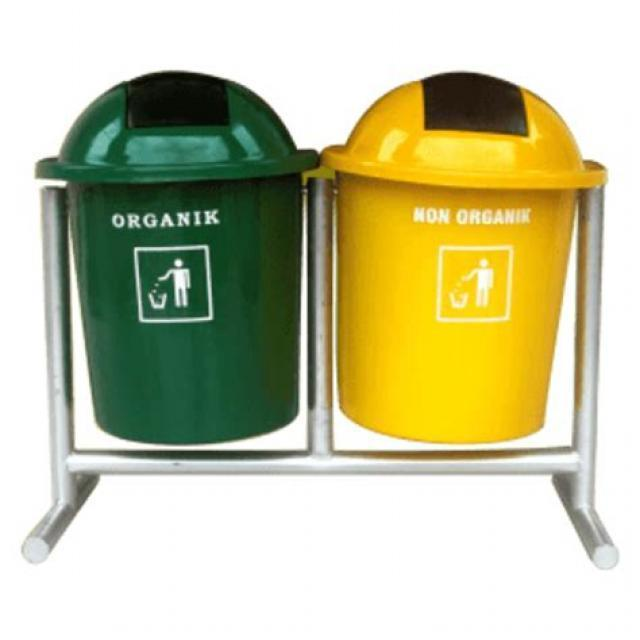garbage container: (35, 53, 318, 487), (336, 49, 600, 469)
